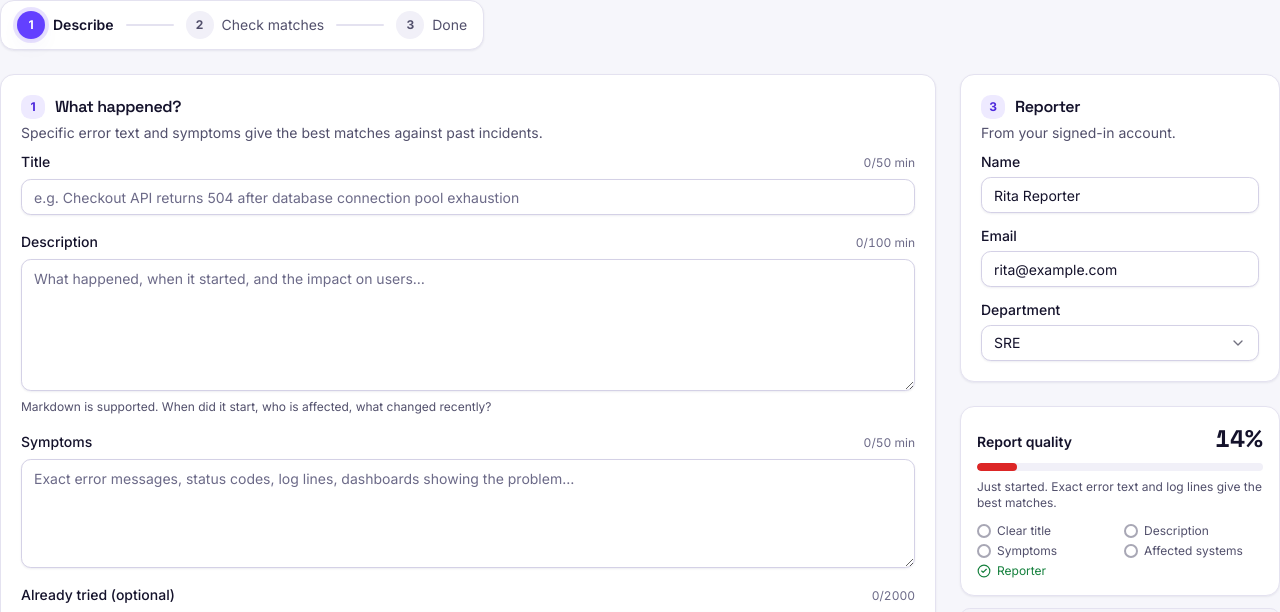
Scenario: IncidentForm › shows a field error only after the field is touched
Replace the text in the field labelled "Title" with "short": (468, 197) [21,179,915,215]
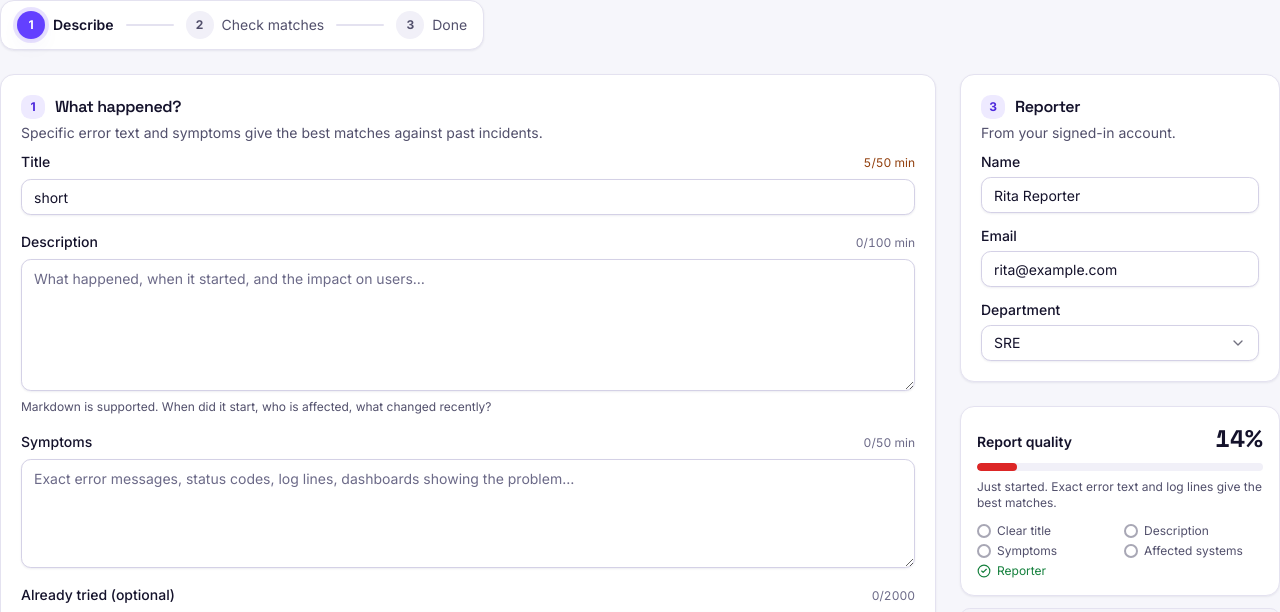
Leave the field labelled "Title", box [21,179,915,215]
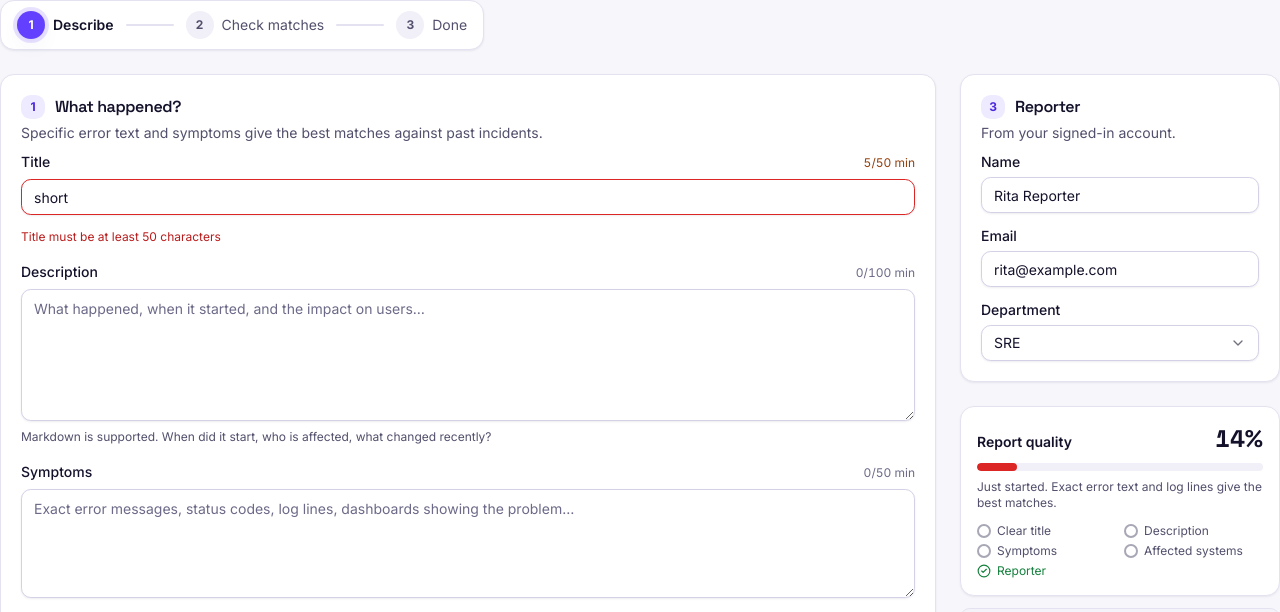
Expected: the text with id "title-error" reads "Title must be at least 50 characters", [21,229,221,244]
